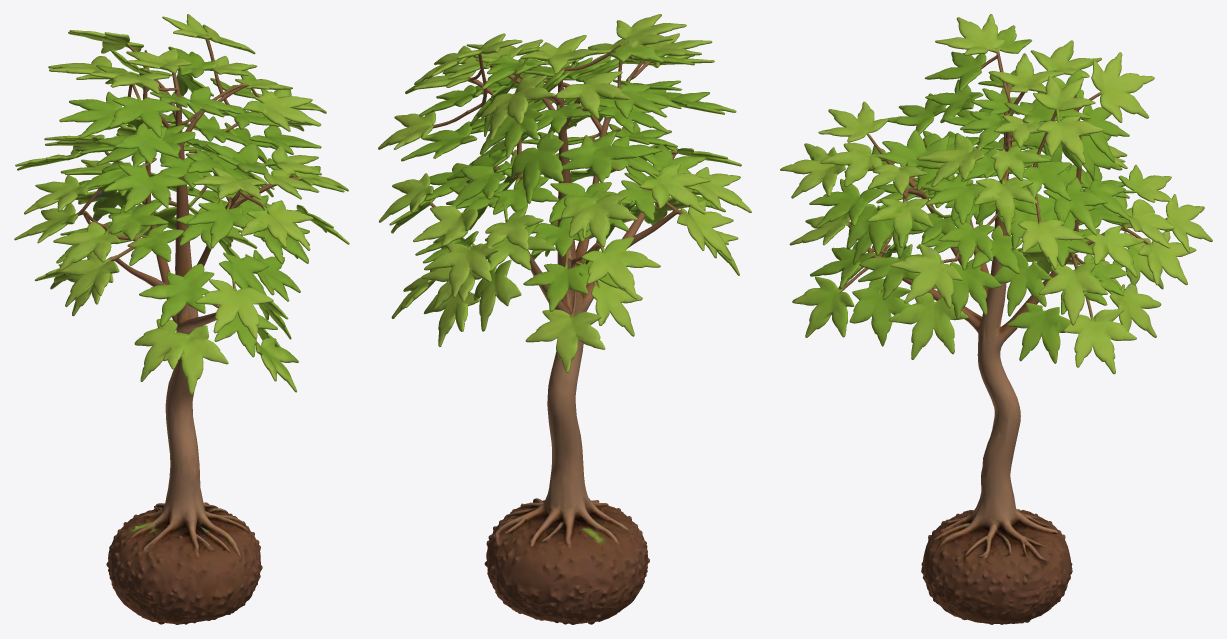
File: tree.glb
The picture shows the model from 3 angles, left to right: view 1: azimuth 30°, elevation 25°; view 2: azimuth 150°, elevation 25°; view 3: azimuth 270°, elevation 25°; orthographic projection. The views are drawn at different scales.
Visible parts, largest first — view 1: tripo_node_26ea1a02-b072-4f5b-93bb-066191ecdeac; view 2: tripo_node_26ea1a02-b072-4f5b-93bb-066191ecdeac; view 3: tripo_node_26ea1a02-b072-4f5b-93bb-066191ecdeac.
Boxes of the visible parts, box(x1,y1,x2,y2) form: tripo_node_26ea1a02-b072-4f5b-93bb-066191ecdeac: box(14, 14, 349, 624); tripo_node_26ea1a02-b072-4f5b-93bb-066191ecdeac: box(378, 14, 751, 624); tripo_node_26ea1a02-b072-4f5b-93bb-066191ecdeac: box(780, 14, 1212, 624).
Size of the model in its own units: 0.2819 by 0.4998 by 0.3605.
Materials: 1 (1 with a texture image).
